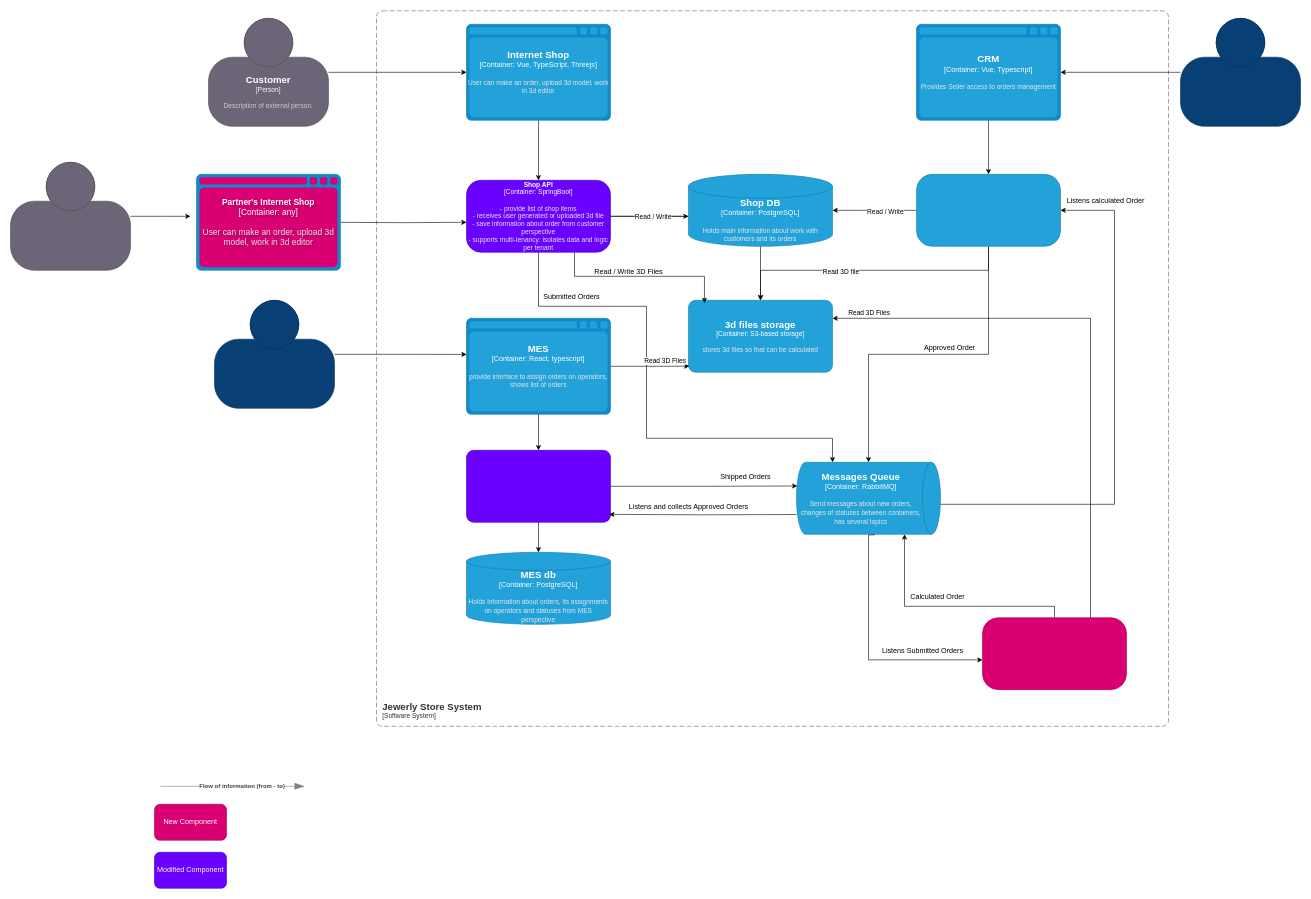
The diagram is 1311 pixels wide and 899 high, and some of its shapes have lost their labels. Here are the shapes that lost their labels. From the top down, the centre of each, then its label:
(1240,72): Seller [Person] Operates with order, confirms manufacturing for the user
(70,216): API user [Person] Description of external person.
(988,210): CRM API [Container: SpringBoot] Manages orders; payments
(274,354): Operator [Person] Takes order in work, manufactures jewerly
(538,486): MES API [Container: C#] - Assigns orders on operators - Shows list of orders
(1054,653): Calculation Service [Container: SpringBoot] Makes Orders Calculations
